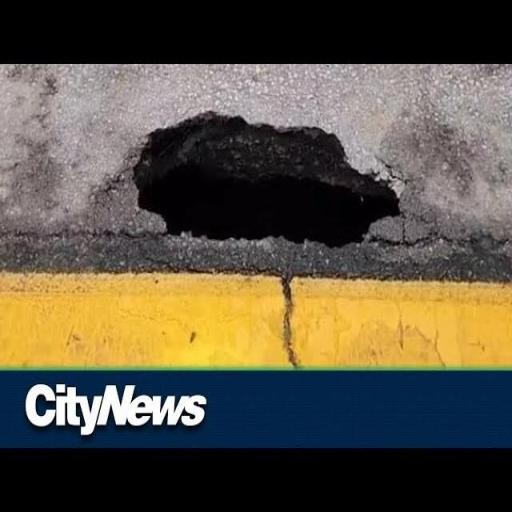Concentric_Crack: (133, 112, 399, 246)
